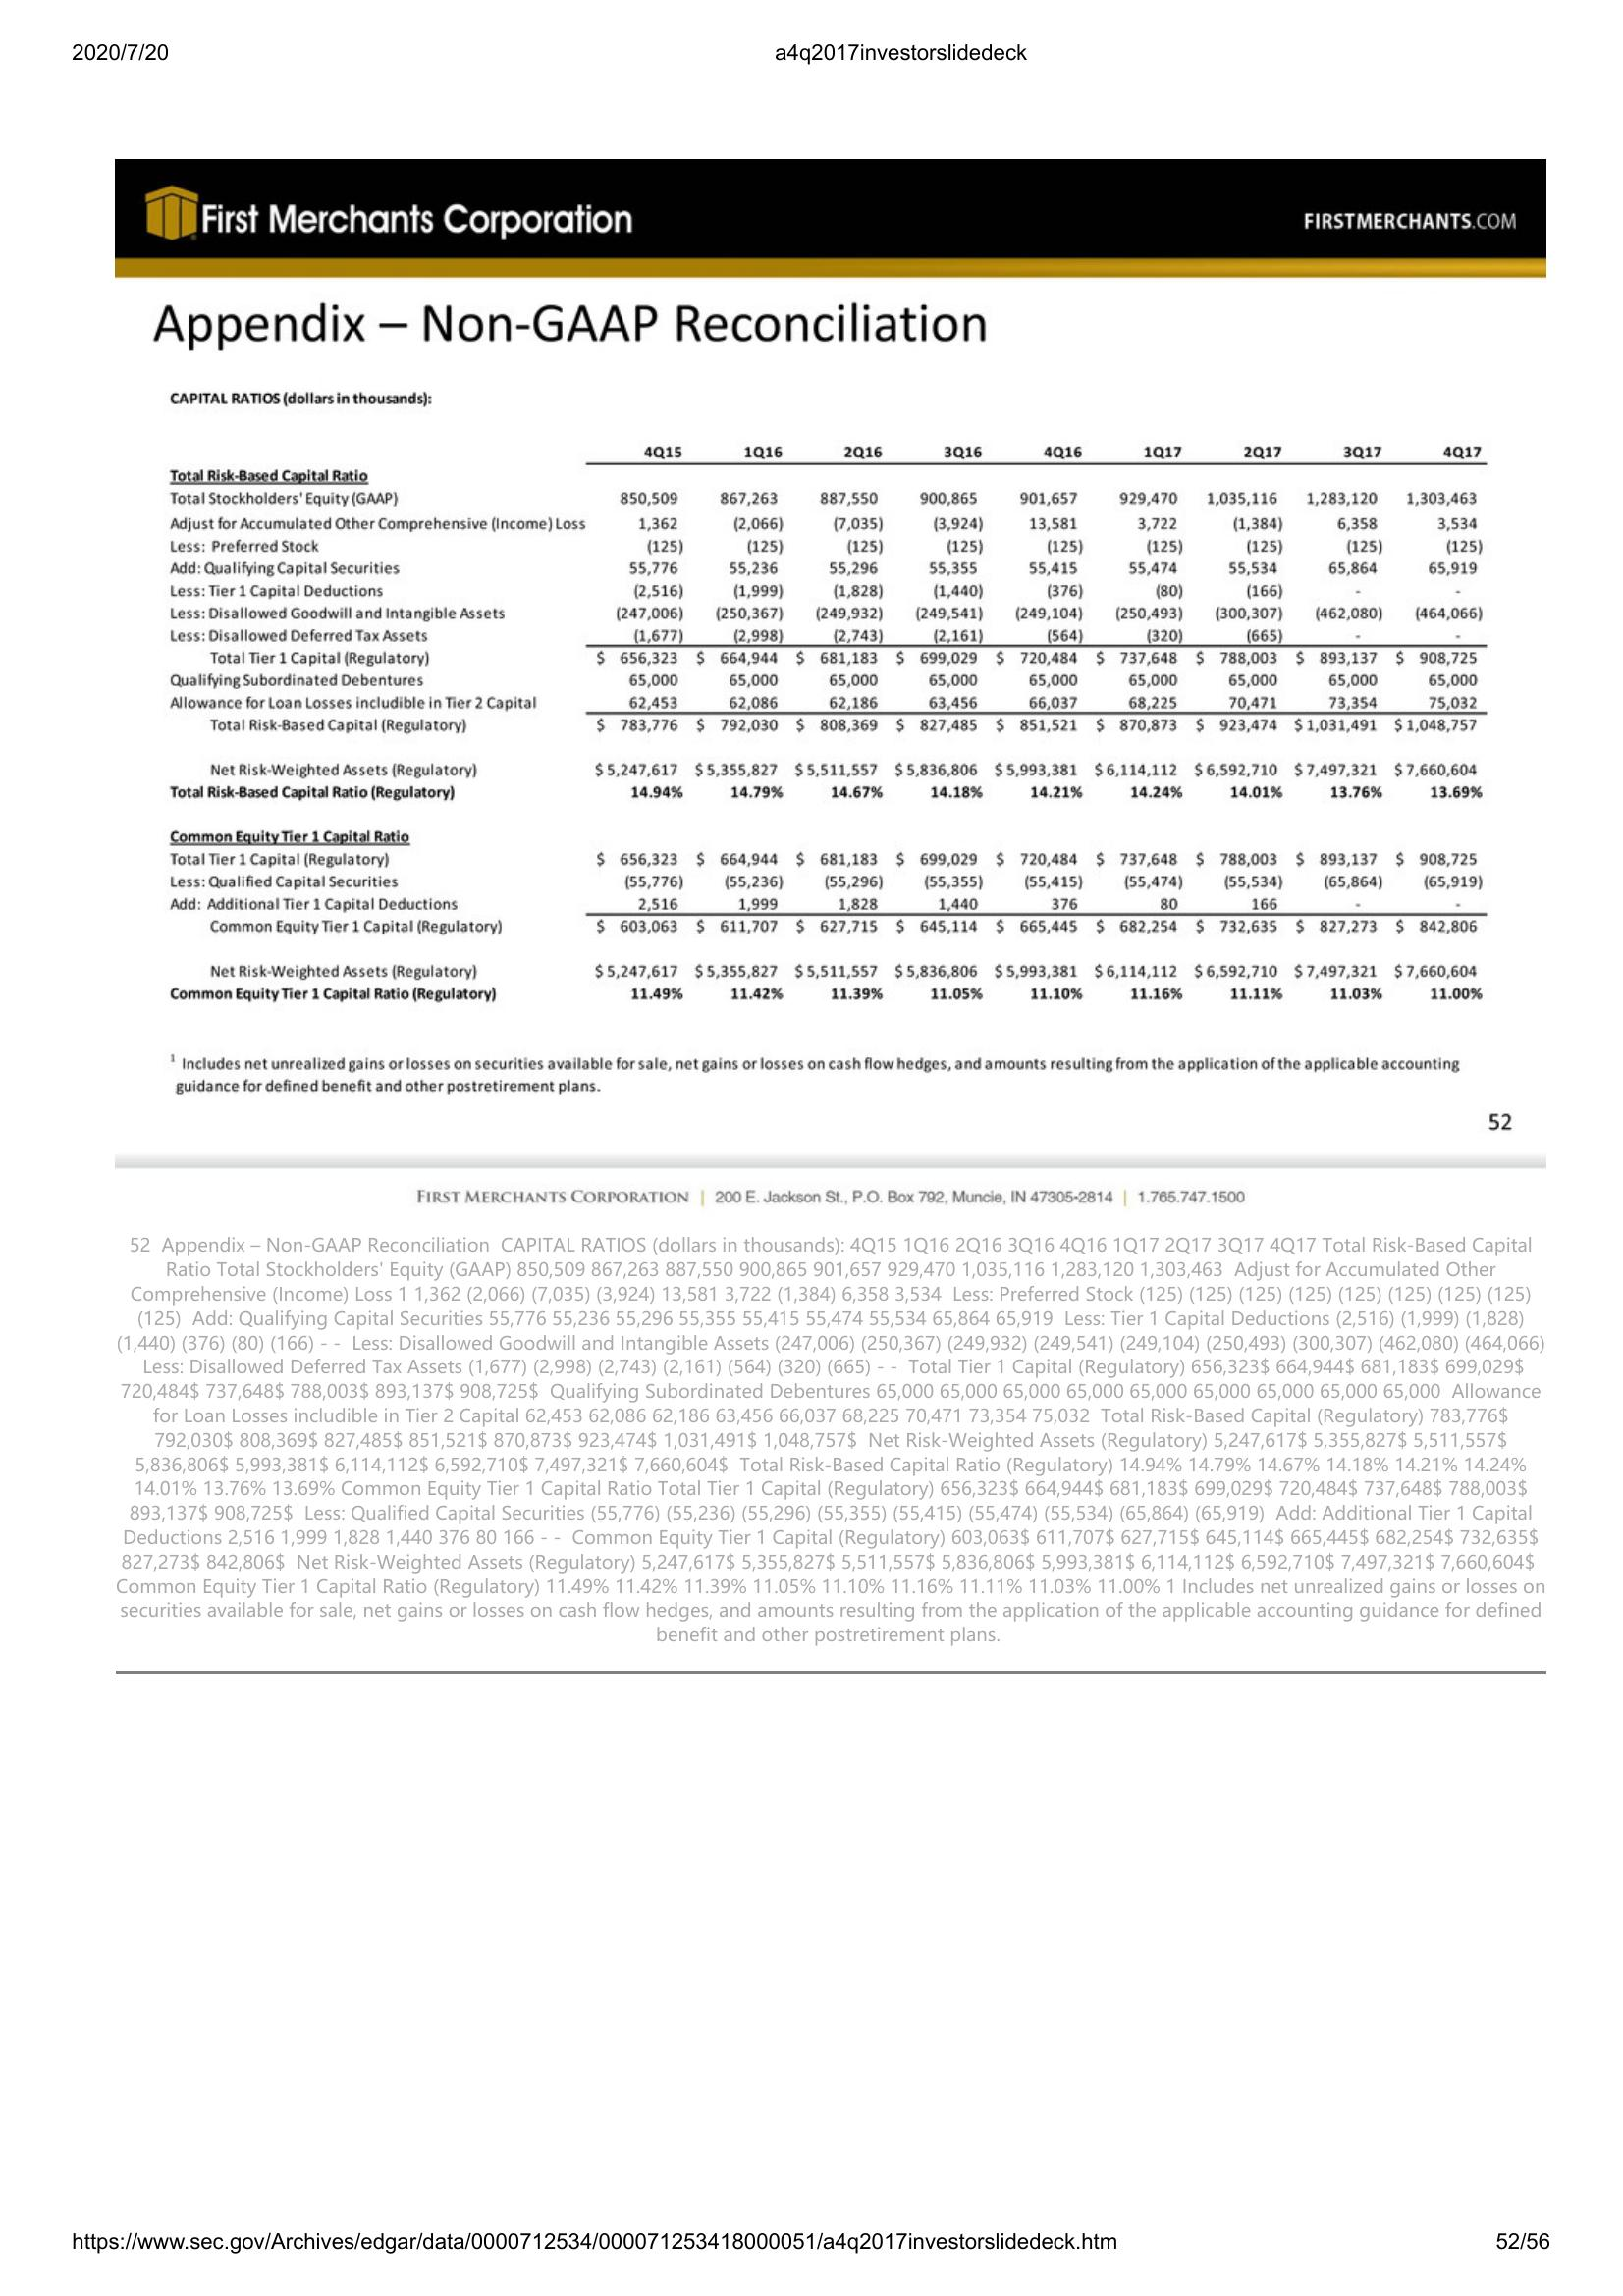table: (170, 435, 1509, 1016)
